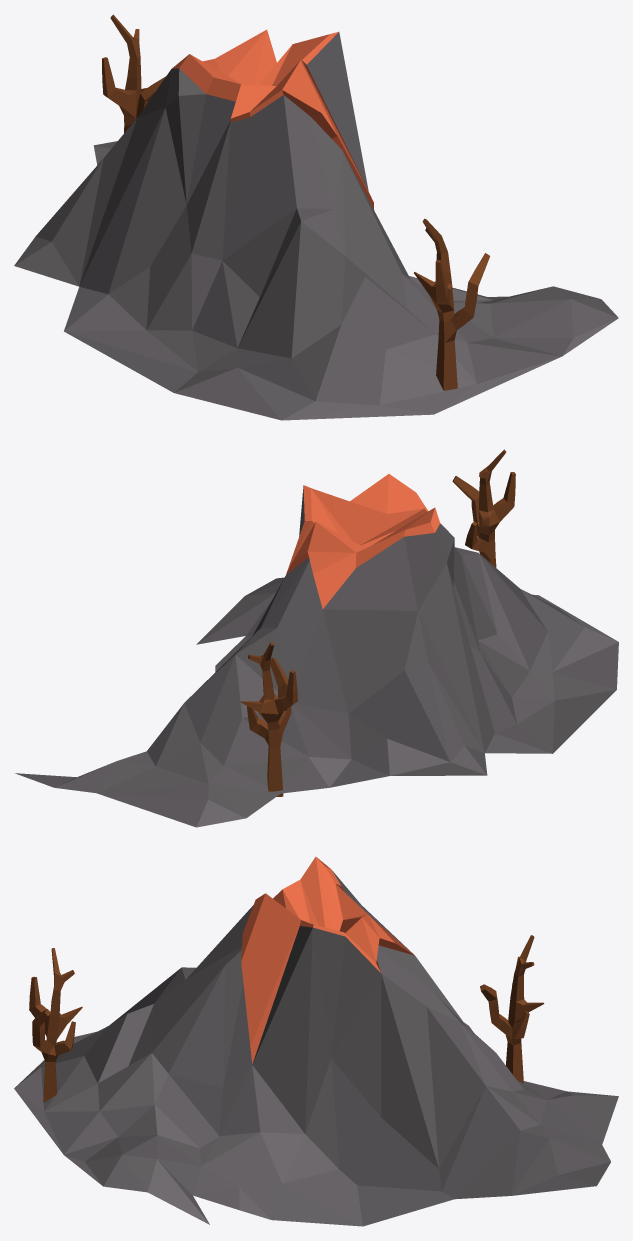
Rendered from volcano_for_export.glb.
3 renders of one model, top to bottom at view 1: azimuth 30°, elevation 25°; view 2: azimuth 150°, elevation 25°; view 3: azimuth 270°, elevation 25°, orthographic. The views are drawn at different scales.
Parts seen in each view (by area): view 1: Volcano, Tree, Tree02; view 2: Volcano, Tree02, Tree; view 3: Volcano, Tree, Tree02.
Part boxes in pixels (bbox=[...]): Volcano: bbox=[14, 29, 618, 420]; Tree: bbox=[414, 218, 489, 390]; Tree02: bbox=[102, 14, 165, 132]; Volcano: bbox=[14, 474, 618, 827]; Tree02: bbox=[241, 642, 297, 796]; Tree: bbox=[452, 449, 515, 567]; Volcano: bbox=[14, 856, 618, 1226]; Tree: bbox=[29, 948, 82, 1102]; Tree02: bbox=[480, 935, 544, 1083].
Size of the model in its own units: 4.35 by 2.96 by 5.95.
